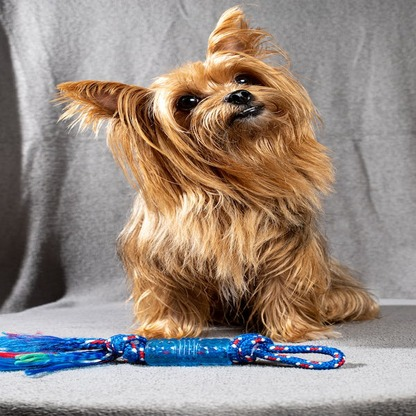yorkshire: (54, 4, 380, 341)
